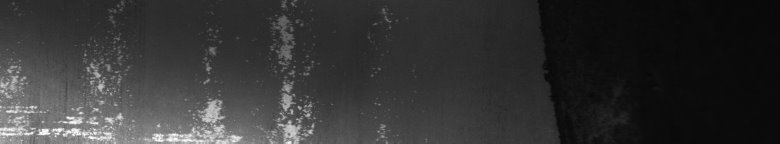kb: (4, 4, 398, 136)
